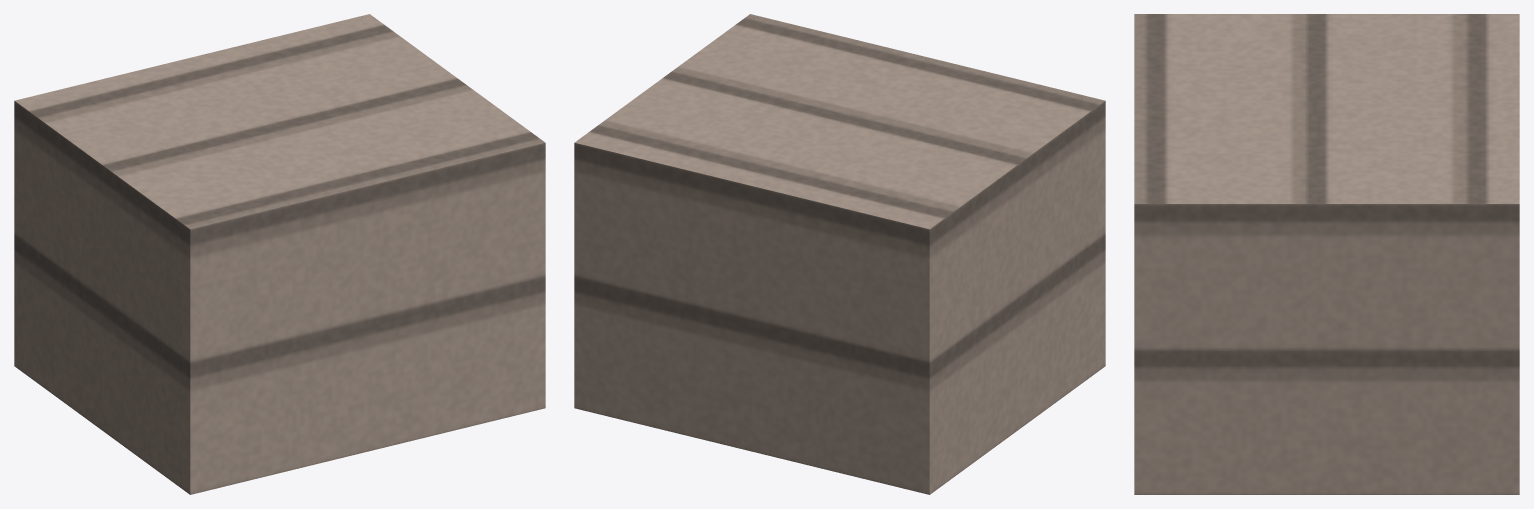
File: root_vegetable_basket.glb
3 views of the same model, side by side, from view 1: azimuth 30°, elevation 25°; view 2: azimuth 150°, elevation 25°; view 3: azimuth 270°, elevation 25° (orthographic). The views are drawn at different scales.
Visible parts, largest first — view 1: root_vegetable_basket-col; view 2: root_vegetable_basket-col; view 3: root_vegetable_basket-col.
Part boxes in pixels (left/top/right/bottom): root_vegetable_basket-col: left=14, top=14, right=545, bottom=494; root_vegetable_basket-col: left=574, top=14, right=1105, bottom=494; root_vegetable_basket-col: left=1134, top=14, right=1519, bottom=494.
Size of the model in its own units: 0.35 by 0.25 by 0.3.
1 material, 1 textured.
